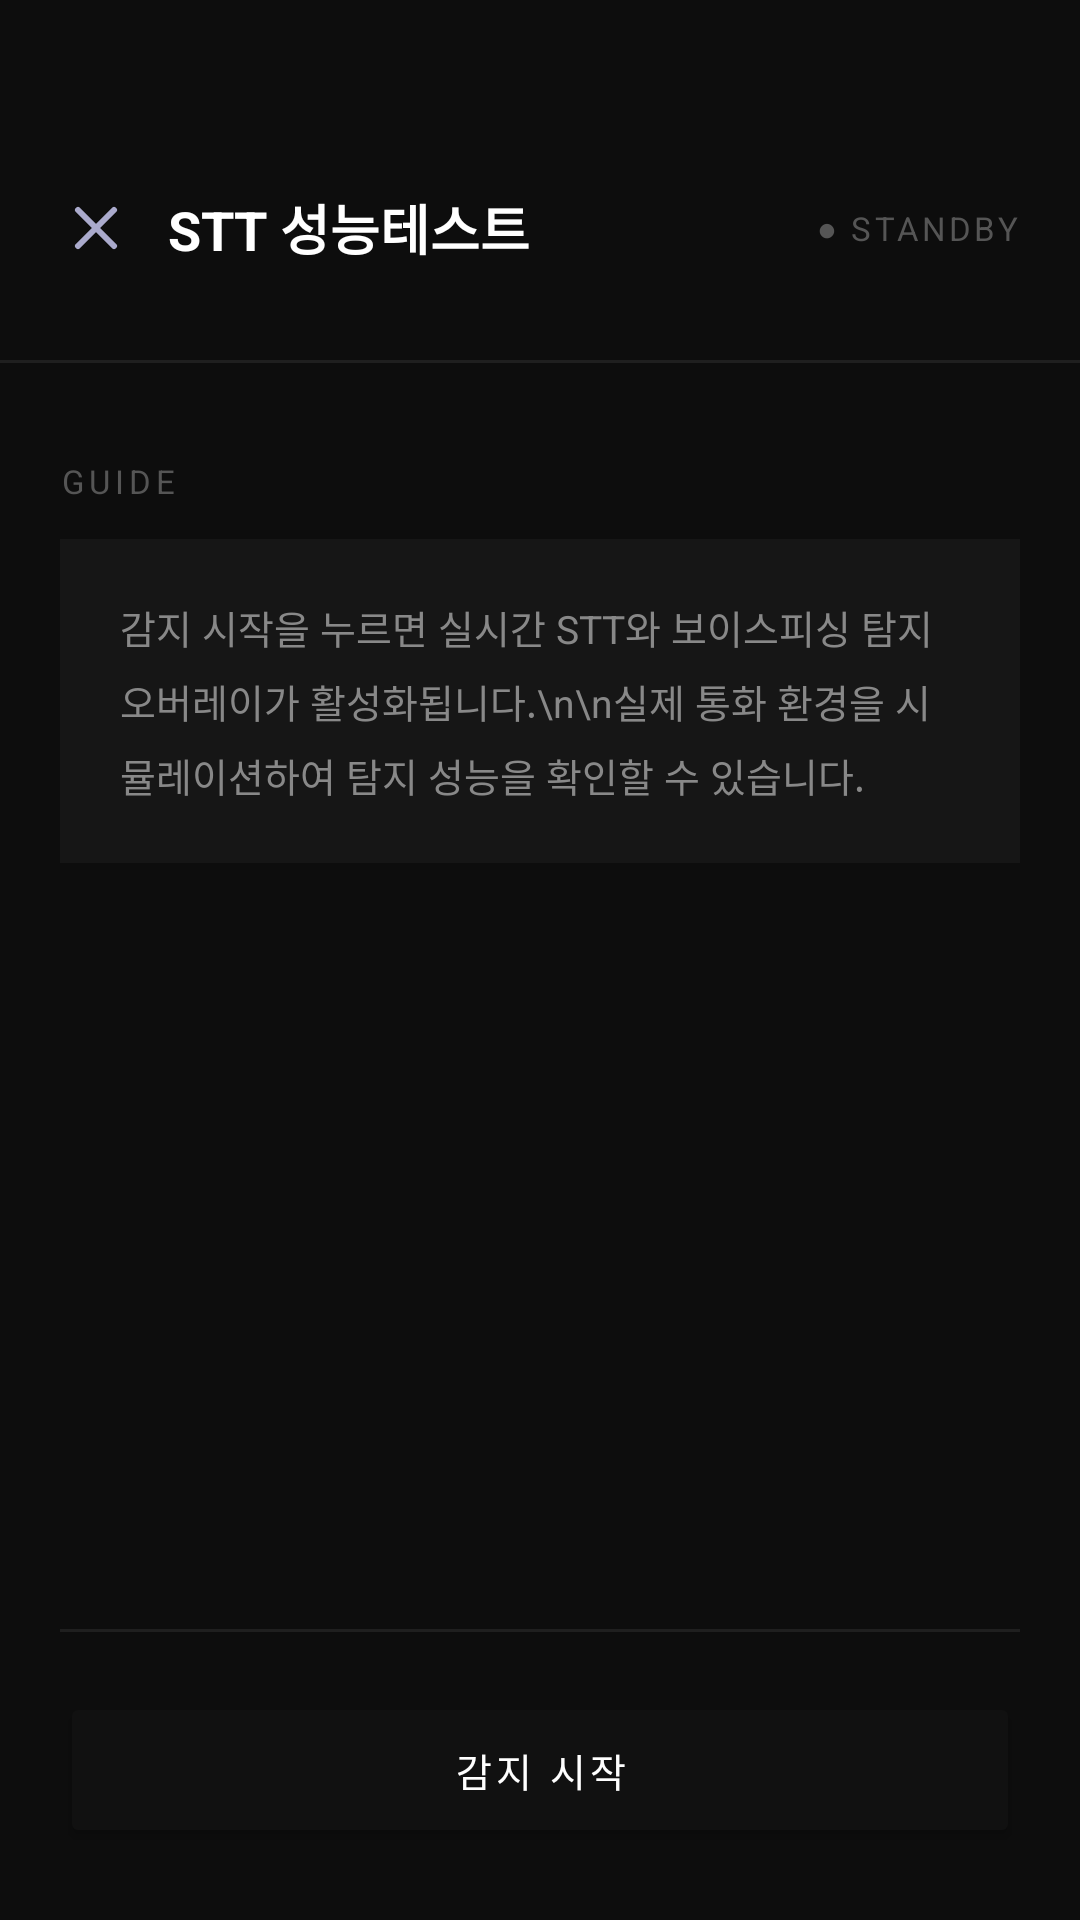

Icon click points for this 1080px×1920px phone screenshot, format point (x, y):
뒤로가기: point (96, 228)
